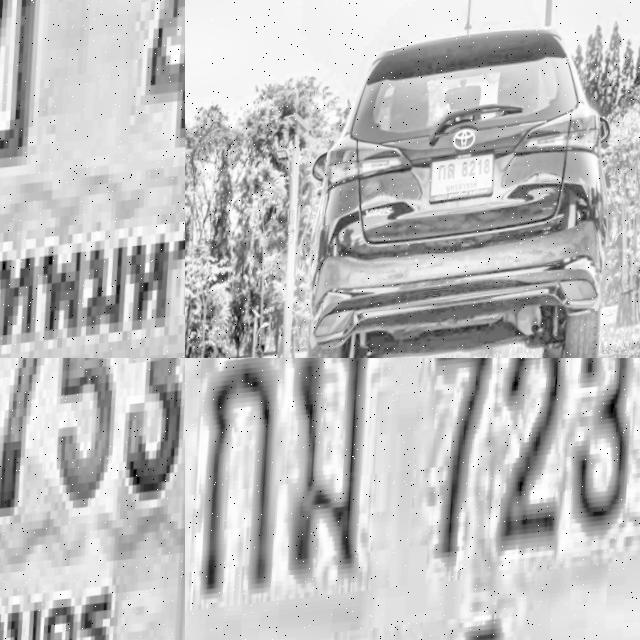license-plate: (185, 358, 640, 640), (0, 0, 185, 358), (0, 358, 185, 640), (429, 153, 501, 214)
